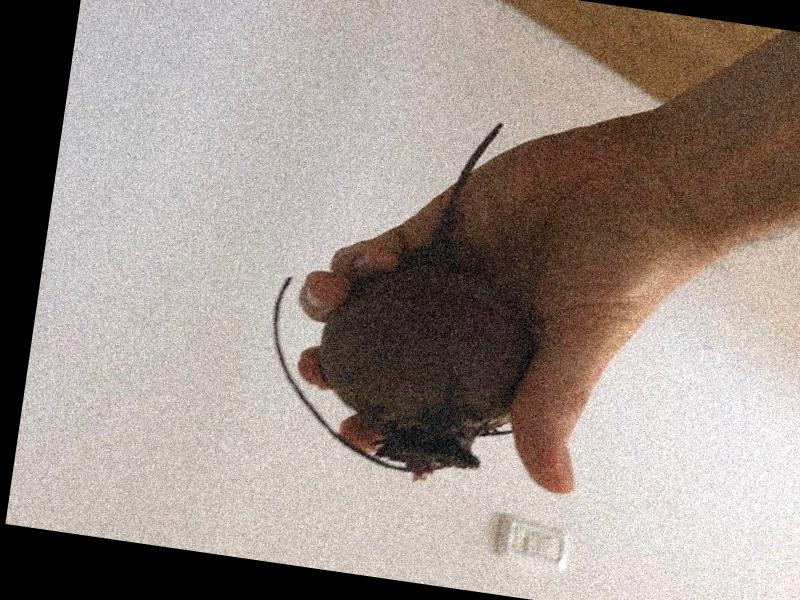Beet: (250, 95, 558, 492)
